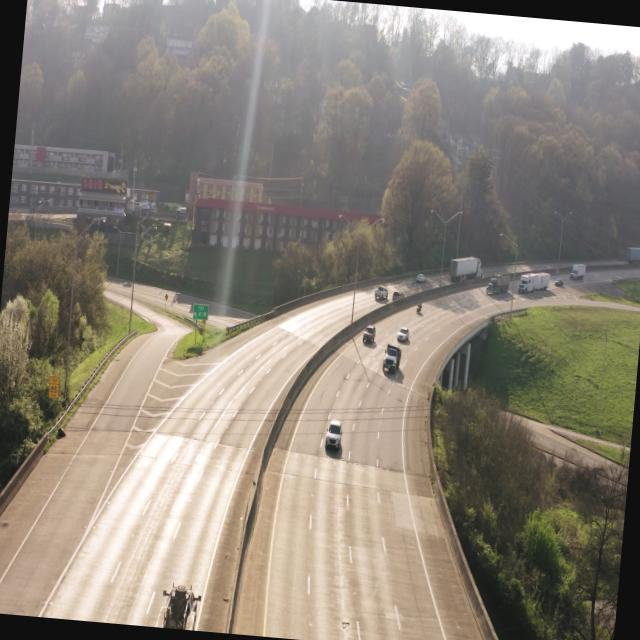Vehicle: (139, 572, 210, 632), (322, 414, 345, 458), (379, 342, 403, 382), (360, 323, 377, 348), (394, 323, 409, 344)
